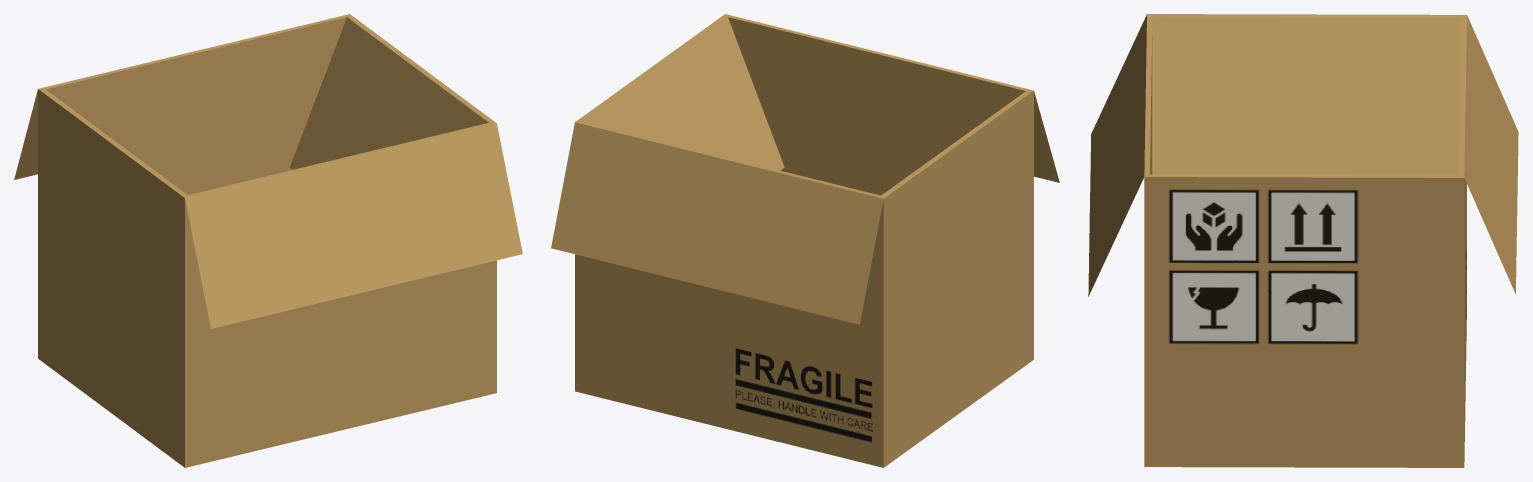
The model's file is Caja.fbx.
The picture shows the model from 3 angles, left to right: view 1: azimuth 30°, elevation 25°; view 2: azimuth 150°, elevation 25°; view 3: azimuth 270°, elevation 25°; orthographic projection. The views are drawn at different scales.
Visible parts, largest first — view 1: Cube.005; view 2: Cube.005; view 3: Cube.005.
Part boxes in pixels (left/top/right/bottom): Cube.005: left=14, top=14, right=522, bottom=467; Cube.005: left=551, top=14, right=1059, bottom=467; Cube.005: left=1088, top=14, right=1518, bottom=467.
Size of the model in its own units: 74.05 by 61.09 by 82.1.
1 material, 1 textured.
